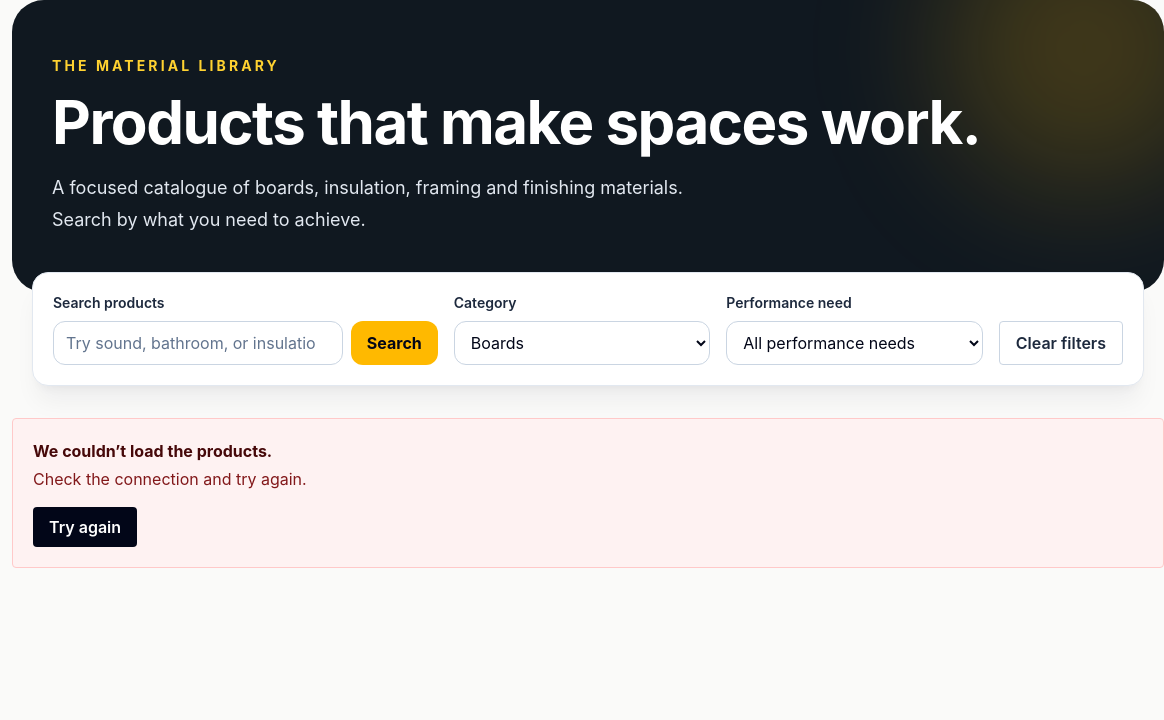
Test: ProductsPage › shows an error and retries the same request
Expected: the message shows "We couldn’t load the products", [33,441,272,461]
Click the button "Try again" at {"x": 85, "y": 527}, box [33,507,137,547]
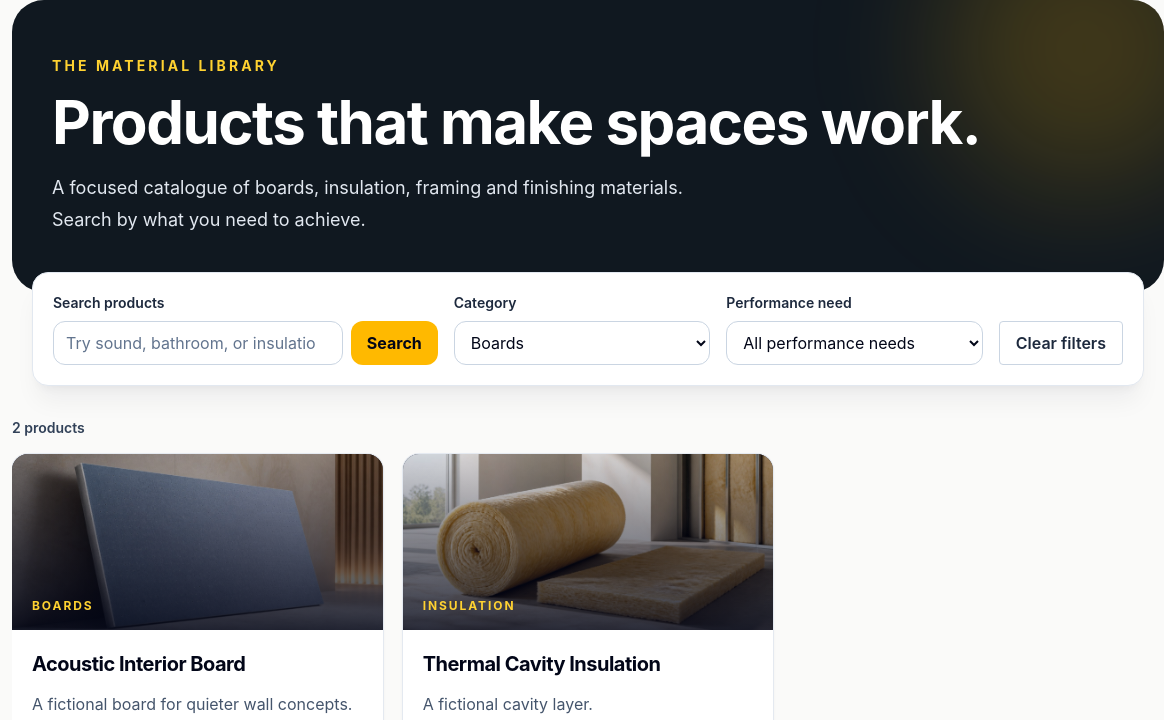
Expected: the text "2 products" is shown, [12,419,85,436]
